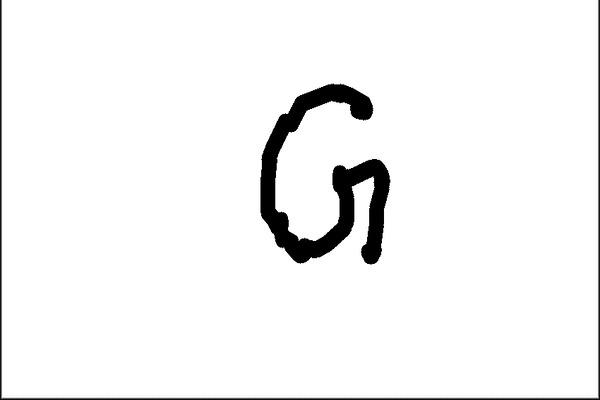G: (255, 78, 395, 270)
